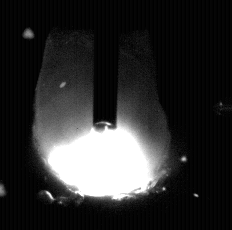arame: (93, 0, 119, 132)
poca: (32, 0, 171, 230)
